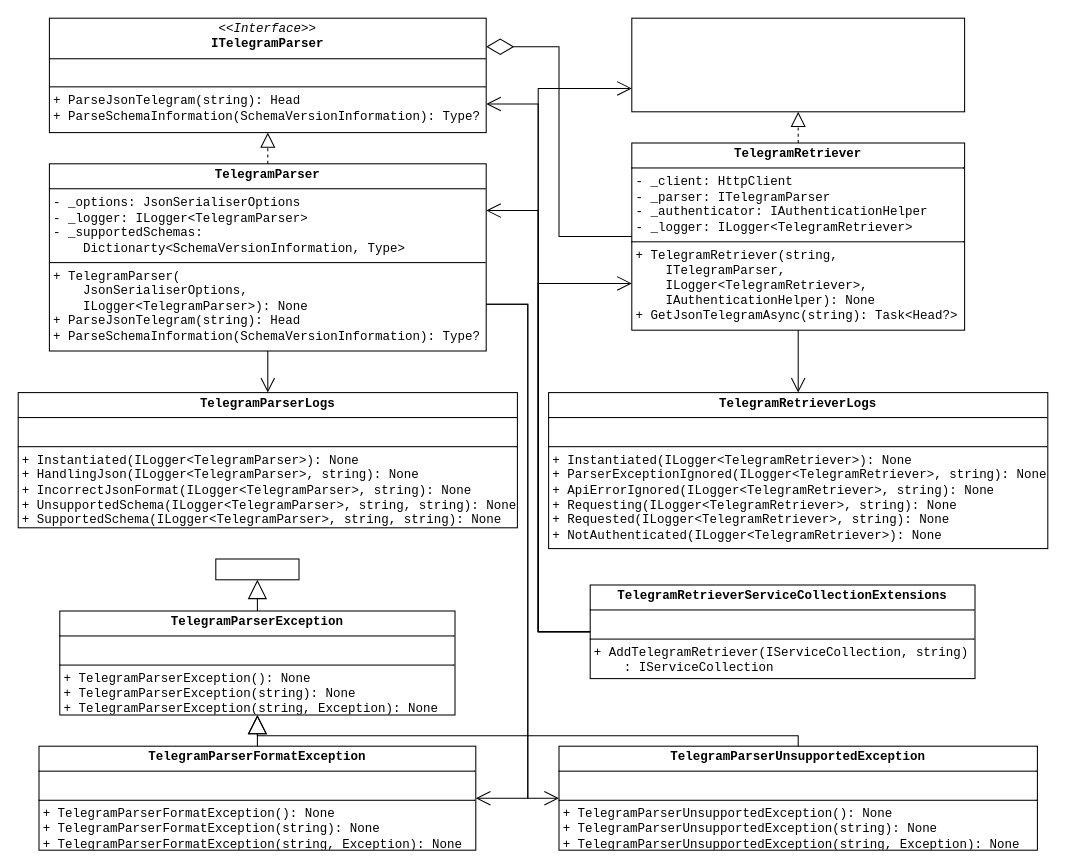
This 1066x868 diagram has some shape labels left out. The shapes that lost their labels are listed below. From the top down, each one's centre as x and y in pixels, then its label:
At pixel 798 64: "<<Interface>> ITelegramRetriever + GetJsonTelegramAsync(string): Task<Head?>".
At pixel 257 569: "Exception".
